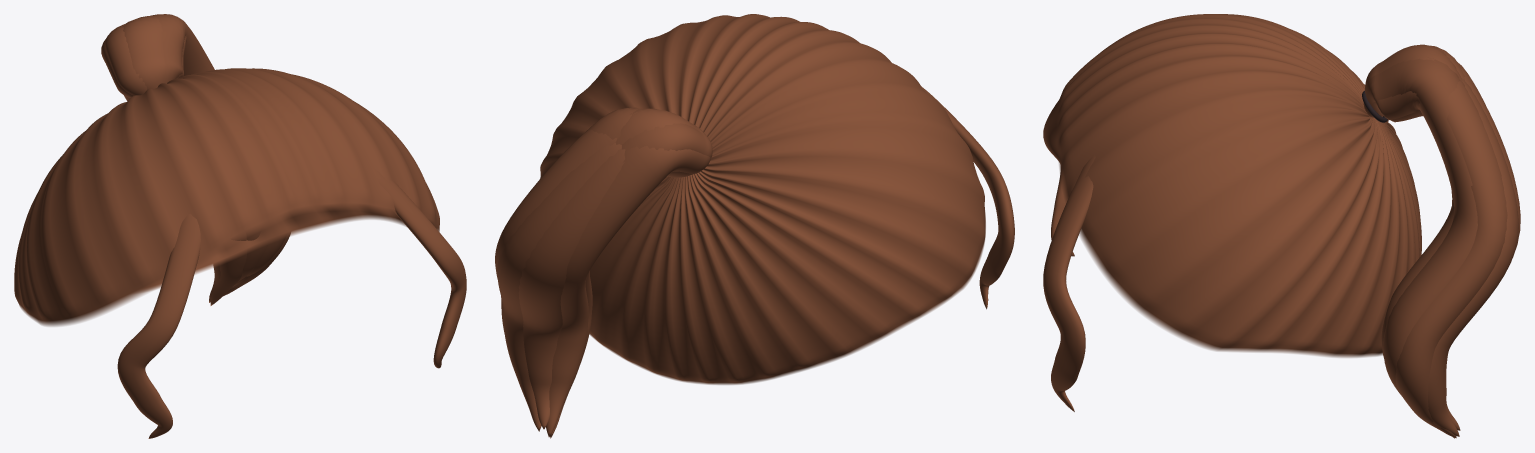
The model's file is Feminine-ponytail-hair.glb.
3 views of the same model, side by side, from view 1: azimuth 30°, elevation 25°; view 2: azimuth 150°, elevation 25°; view 3: azimuth 270°, elevation 25° (orthographic). The views are drawn at different scales.
Parts seen in each view (by area): view 1: Hair / softly pulled roots214, Hair / rooted framing214 -1, Hair / rooted framing214 1, Hair / selectable tail214 2, Hair / selectable tail214 1, Hair / selectable tail214 3, Hair / selectable tail214 4, Hair / selectable tail214 0; view 2: Hair / softly pulled roots214, Hair / selectable tail214 4, Hair / selectable tail214 5, Hair / selectable tail214 6, Hair / rooted framing214 -1, Hair / selectable tail214 0, Hair / selectable tail214 3, Hair / selectable tail214 2, Hair / selectable tail214 1; view 3: Hair / softly pulled roots214, Hair / selectable tail214 0, Hair / selectable tail214 1, Hair / rooted framing214 1, Hair / selectable tail214 6, Hair / selectable tail214 2, Hair / rooted framing214 -1, Hair / selectable tail214 5.
Part boxes in pixels (x1,y1,x2,y2): Hair / softly pulled roots214: [14, 68, 439, 326]; Hair / rooted framing214 -1: [117, 214, 200, 438]; Hair / rooted framing214 1: [373, 169, 466, 368]; Hair / selectable tail214 2: [122, 16, 269, 281]; Hair / selectable tail214 1: [150, 14, 287, 276]; Hair / selectable tail214 3: [104, 24, 246, 305]; Hair / selectable tail214 4: [101, 38, 220, 302]; Hair / selectable tail214 0: [177, 35, 290, 296]; Hair / softly pulled roots214: [540, 14, 985, 384]; Hair / selectable tail214 4: [546, 146, 710, 437]; Hair / selectable tail214 5: [518, 149, 692, 429]; Hair / selectable tail214 6: [497, 143, 621, 431]; Hair / rooted framing214 -1: [920, 86, 1014, 309]; Hair / selectable tail214 0: [495, 129, 616, 333]; Hair / selectable tail214 3: [550, 123, 712, 438]; Hair / selectable tail214 2: [615, 108, 705, 144]; Hair / selectable tail214 1: [585, 107, 645, 139]; Hair / softly pulled roots214: [1057, 14, 1421, 357]; Hair / selectable tail214 0: [1367, 77, 1507, 438]; Hair / selectable tail214 1: [1364, 57, 1477, 394]; Hair / rooted framing214 1: [1043, 155, 1095, 411]; Hair / selectable tail214 6: [1373, 78, 1518, 436]; Hair / selectable tail214 2: [1363, 44, 1462, 358]; Hair / rooted framing214 -1: [1043, 99, 1074, 256]; Hair / selectable tail214 5: [1444, 78, 1520, 430].
Bounding box in the file's own units: 0.9756 × 0.7834 × 0.9587.
